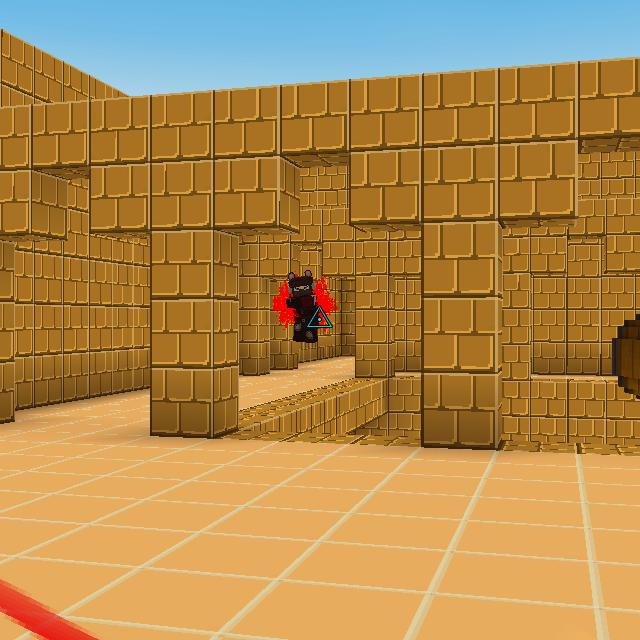enemy: (285, 269, 319, 344)
